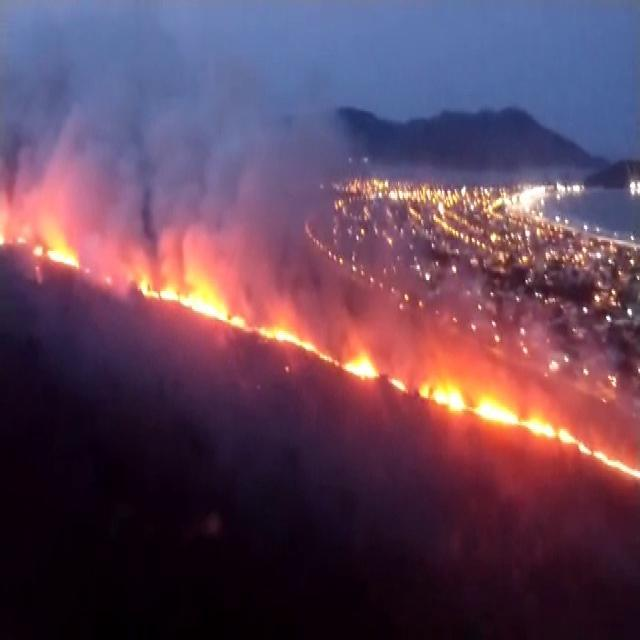Fire: (177, 279, 229, 321), (32, 234, 82, 270), (424, 380, 467, 415), (527, 418, 572, 448), (478, 399, 524, 426), (344, 352, 374, 380), (270, 324, 299, 346)
